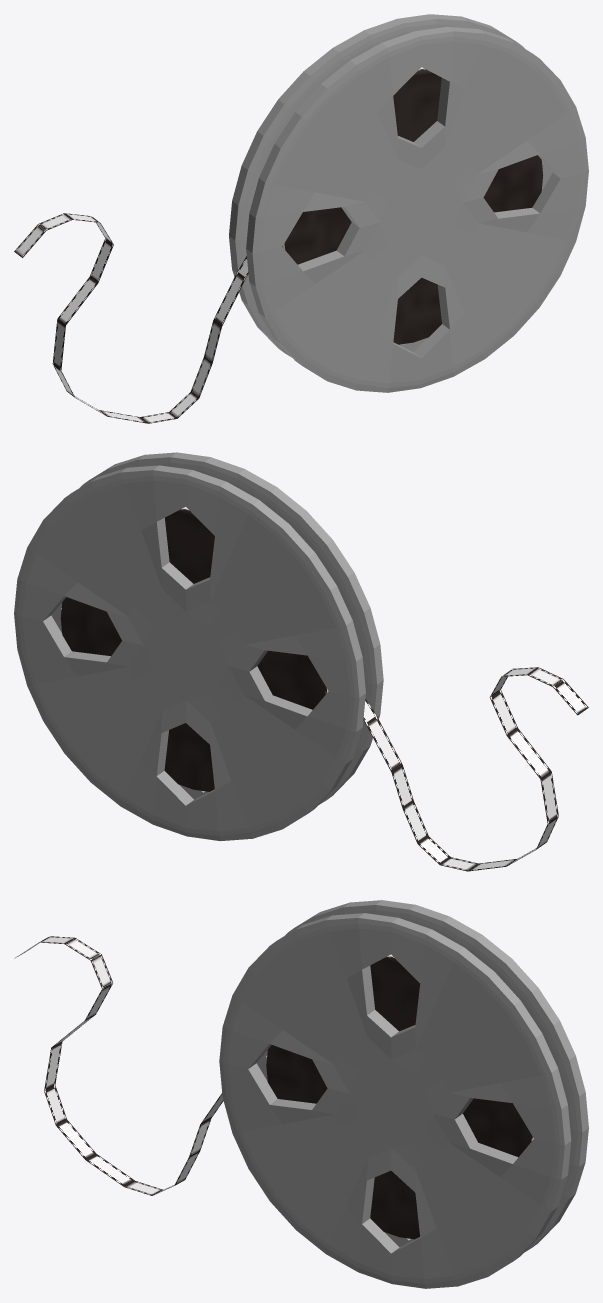
Rendered from FilmTape.fbx.
3 views of the same model, one above another, from view 1: azimuth 30°, elevation 25°; view 2: azimuth 150°, elevation 25°; view 3: azimuth 330°, elevation 25° (orthographic). The views are drawn at different scales.
Parts seen in each view (by area): view 1: Cylinder.002, Cylinder.001, Cylinder; view 2: Cylinder, Cylinder.001, Cylinder.002; view 3: Cylinder.002, Cylinder.001, Cylinder.
Part boxes in pixels (bbox=[...]): Cylinder.002: bbox=[246, 26, 588, 392]; Cylinder.001: bbox=[14, 67, 543, 423]; Cylinder: bbox=[229, 14, 552, 357]; Cylinder: bbox=[14, 465, 365, 841]; Cylinder.001: bbox=[60, 507, 588, 871]; Cylinder.002: bbox=[51, 452, 383, 804]; Cylinder.002: bbox=[219, 913, 571, 1288]; Cylinder.001: bbox=[14, 936, 533, 1239]; Cylinder: bbox=[256, 900, 588, 1252].
Size of the model in its own units: 308 by 188 by 24.7.
